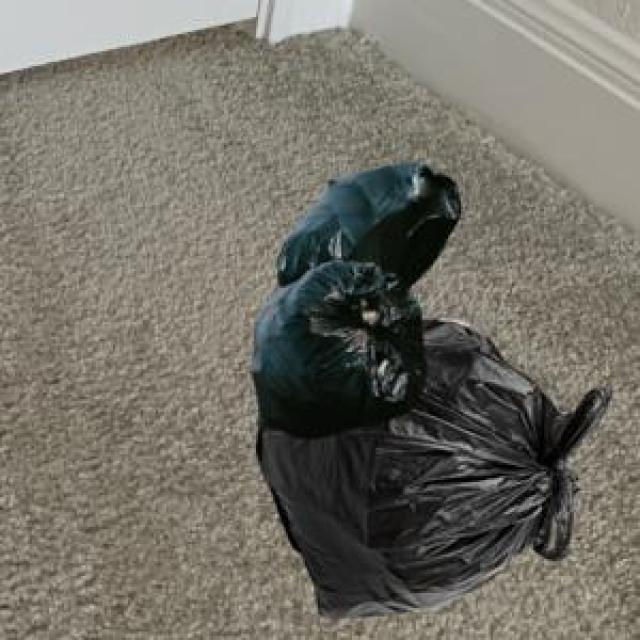waste: (254, 162, 612, 614)
